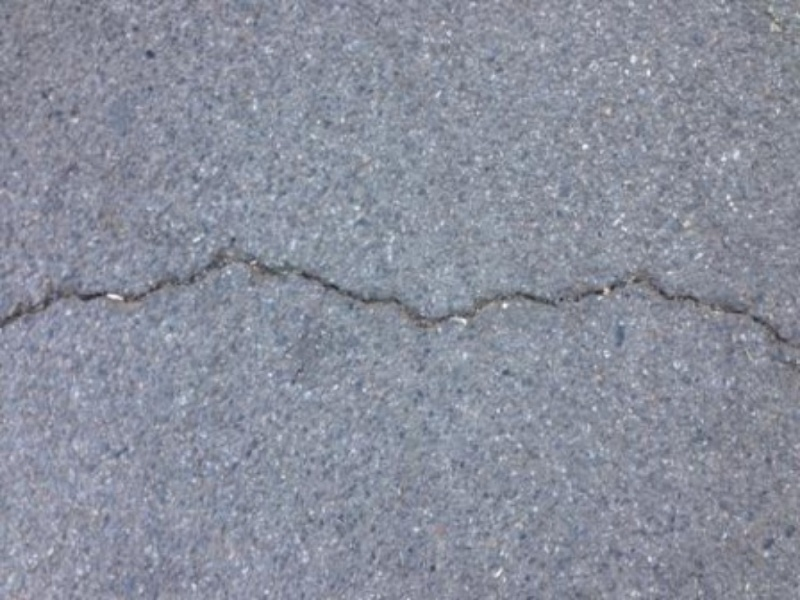crack: (5, 243, 800, 358)
